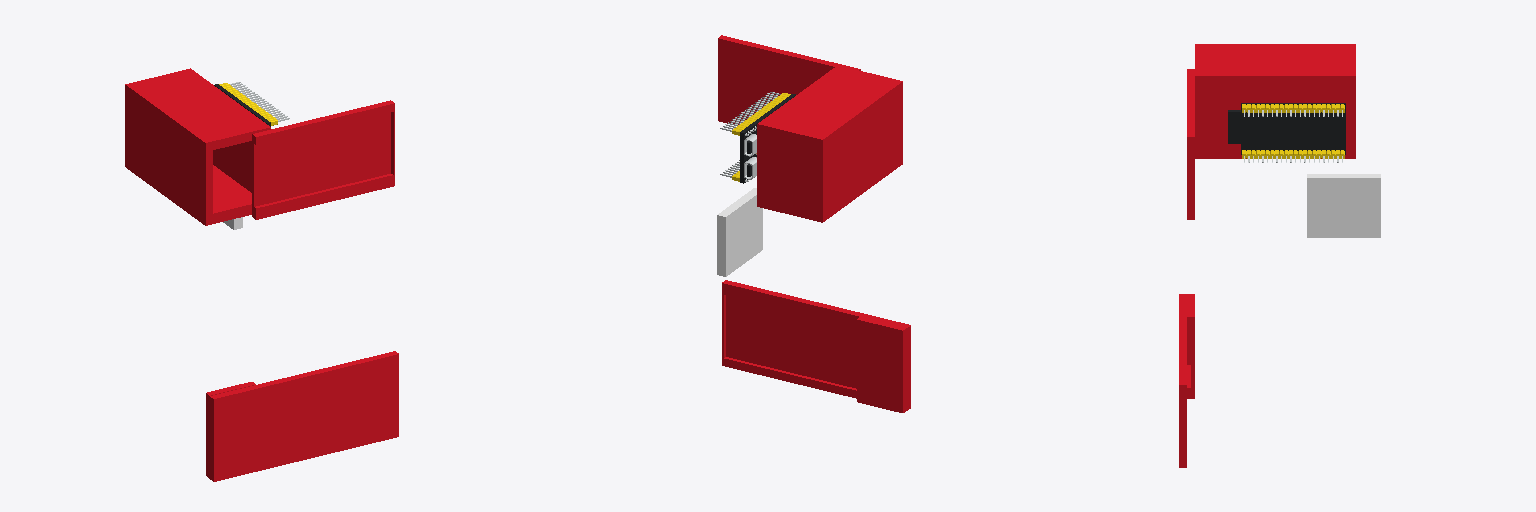
Rendered from tinker.obj.
3 views of the same model, side by side, from view 1: azimuth 30°, elevation 25°; view 2: azimuth 150°, elevation 25°; view 3: azimuth 270°, elevation 25° (orthographic).
Parts seen in each view (by area): view 1: obj_4, obj_2, obj_3, obj_0; view 2: obj_2, obj_4, obj_3, obj_1, obj_0; view 3: obj_2, obj_0, obj_1, obj_4, obj_3.
Part boxes in pixels (x1,y1,x2,y2): obj_4: (206,351,398,481); obj_2: (125,68,270,225); obj_3: (252,100,394,219); obj_0: (214,82,289,126); obj_2: (757,65,902,222); obj_4: (722,280,910,412); obj_3: (718,35,860,124); obj_1: (717,188,762,276); obj_0: (720,92,795,183); obj_2: (1195,44,1355,158); obj_0: (1228,103,1345,162); obj_1: (1307,174,1380,237); obj_4: (1179,294,1194,467); obj_3: (1187,69,1194,219).
Bounding box in the file's own units: 104 × 178 × 98.